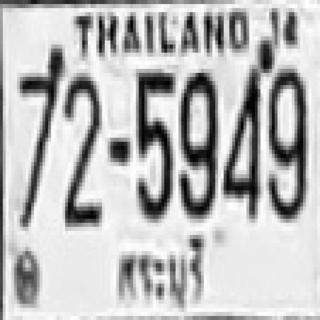N02: (61, 73, 101, 219), (62, 73, 99, 207)
N04: (221, 65, 261, 219)
N05: (133, 69, 173, 215)
N07: (17, 47, 62, 221)
N09: (266, 65, 306, 219), (178, 69, 215, 215)
P60: (108, 234, 209, 313)
